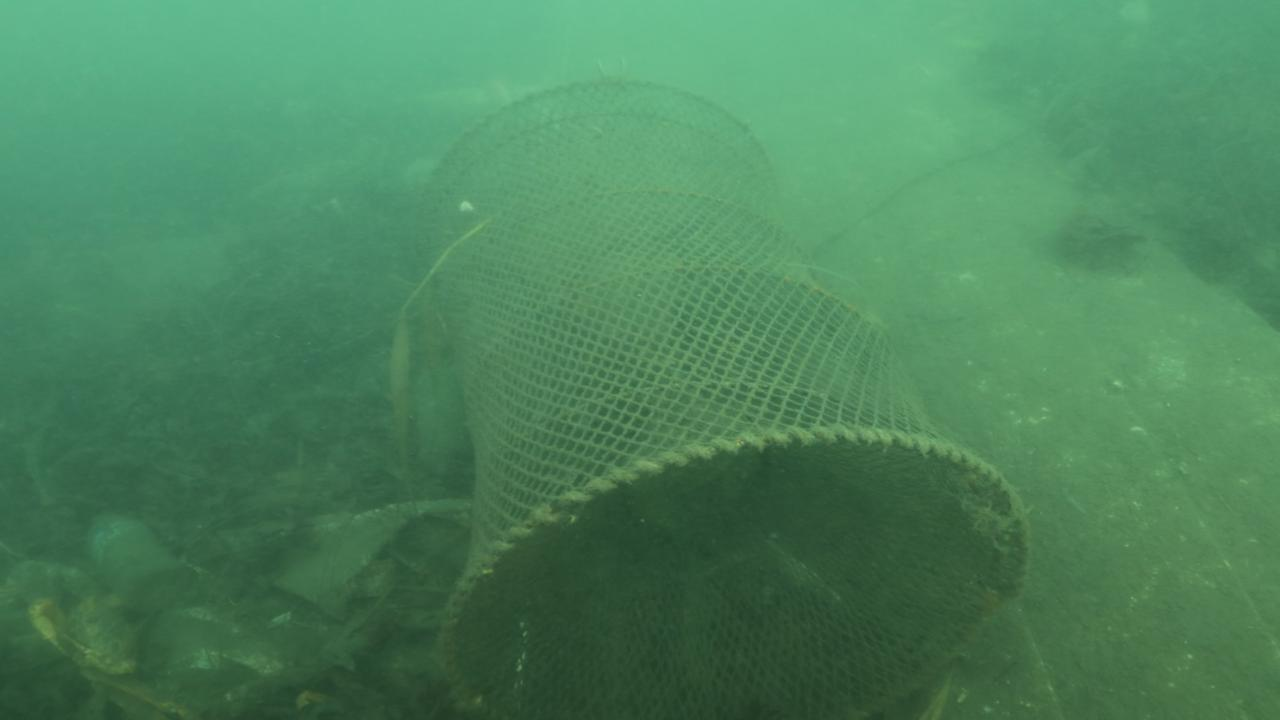spring fish trap: (411, 75, 1035, 720)
